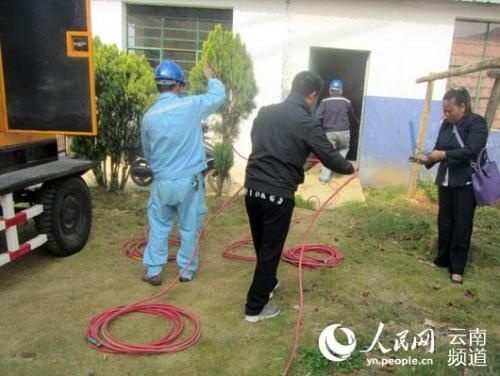blue: (153, 59, 184, 100), (327, 77, 344, 100)
none: (291, 66, 325, 107), (441, 85, 469, 125)
